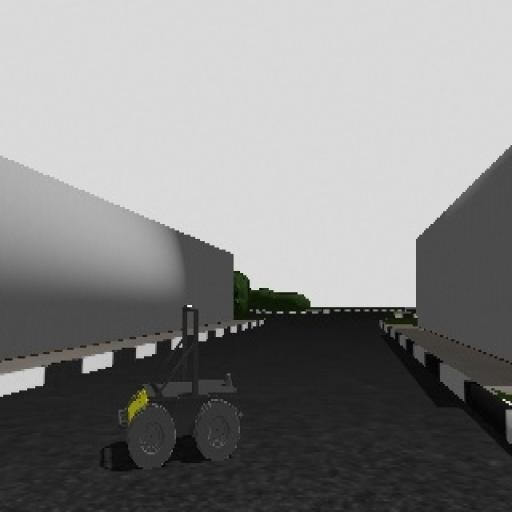huskya200: (100, 300, 254, 469)
